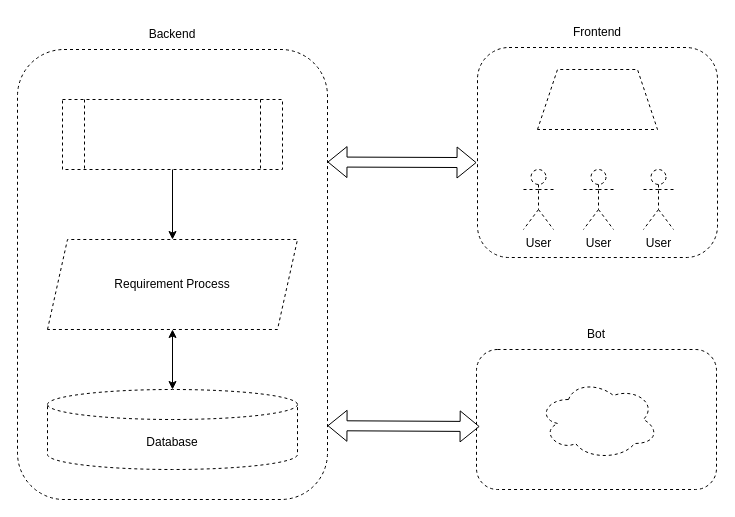
This 735x517 diagram has some shape labels left out. The centre of each missing label's shape, as x and y in pixels:
"Collection" belongs at (x=598, y=419).
"Dashboard" belongs at (x=597, y=99).
"Requirement Queue" belongs at (x=172, y=134).
